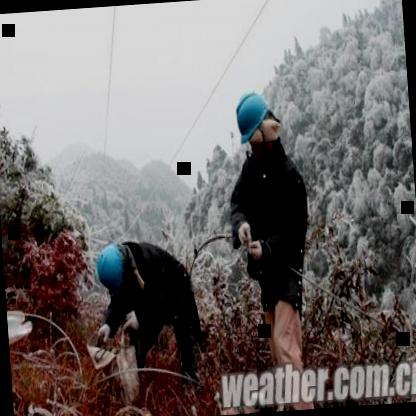helmet: (228, 84, 282, 159), (93, 242, 136, 300)
